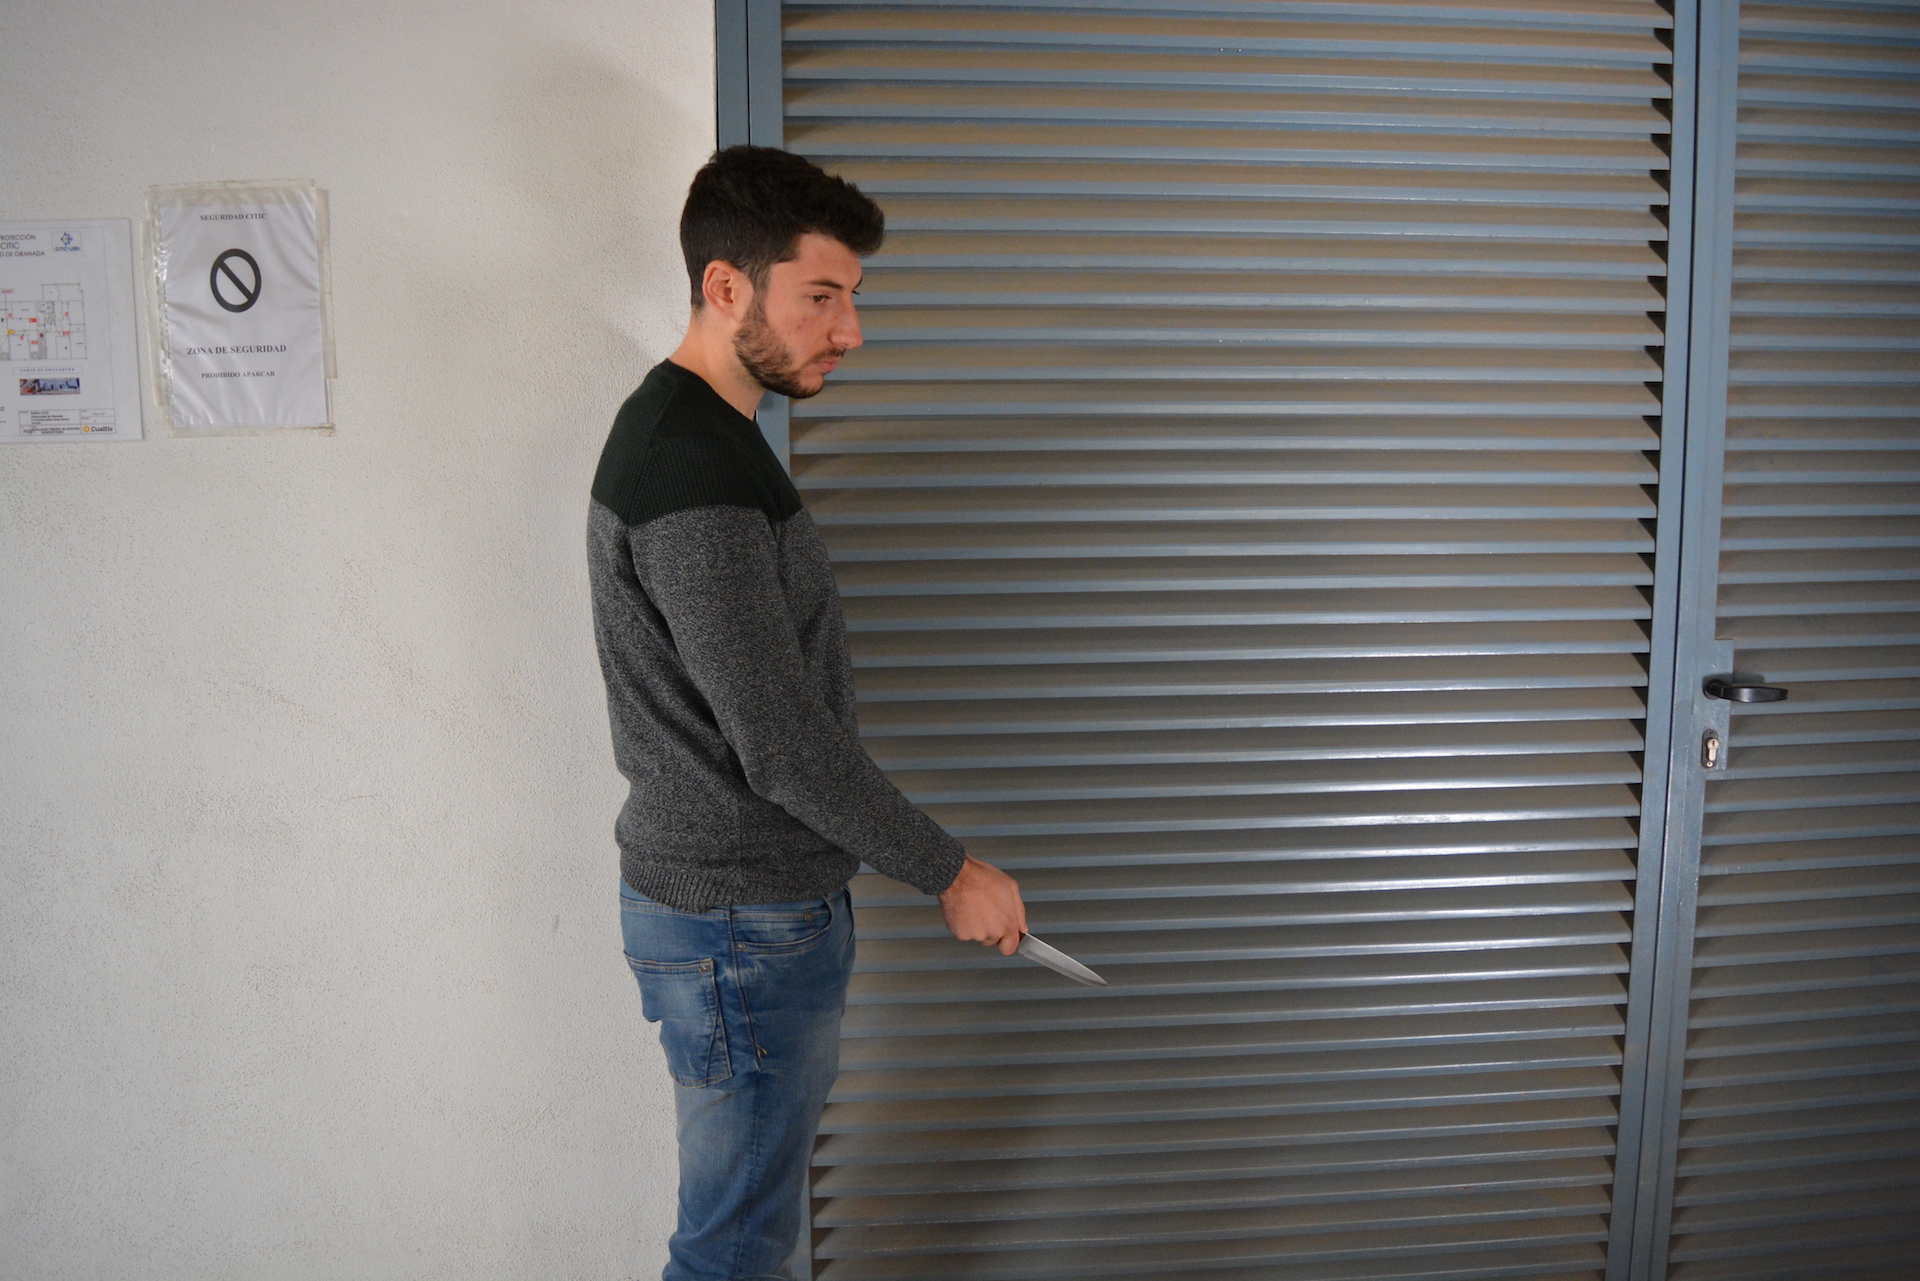knife: (964, 899, 1118, 996)
